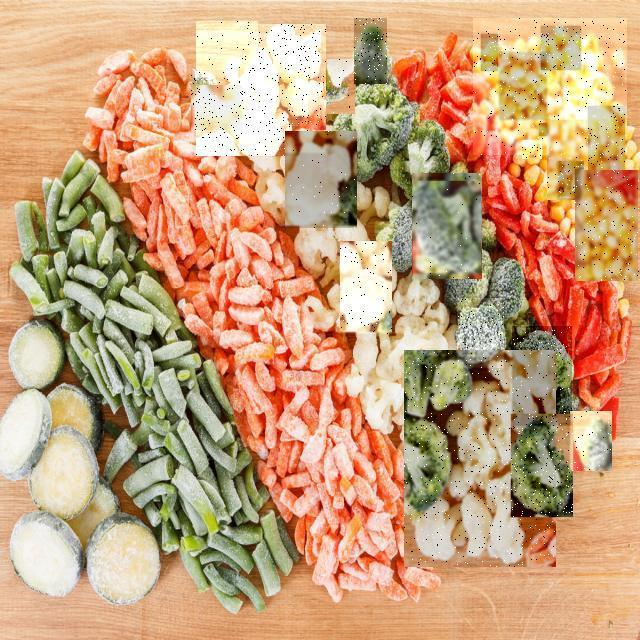Broccoli: (412, 173, 482, 279), (413, 182, 481, 278), (511, 414, 573, 517), (512, 326, 572, 426), (457, 298, 504, 368), (298, 59, 355, 114), (570, 411, 612, 471), (354, 18, 387, 84)
Cauliflower: (404, 350, 556, 567), (196, 24, 326, 156), (285, 132, 357, 230), (340, 242, 392, 336), (250, 46, 308, 126), (196, 21, 258, 85), (192, 70, 244, 132)
Sweetcorn: (473, 18, 627, 155), (576, 170, 640, 281), (499, 52, 547, 120), (548, 121, 588, 201), (564, 39, 598, 129), (588, 106, 625, 170), (541, 27, 581, 71), (560, 162, 584, 200), (481, 34, 498, 71), (522, 140, 542, 159), (539, 70, 557, 90), (539, 123, 552, 136)
